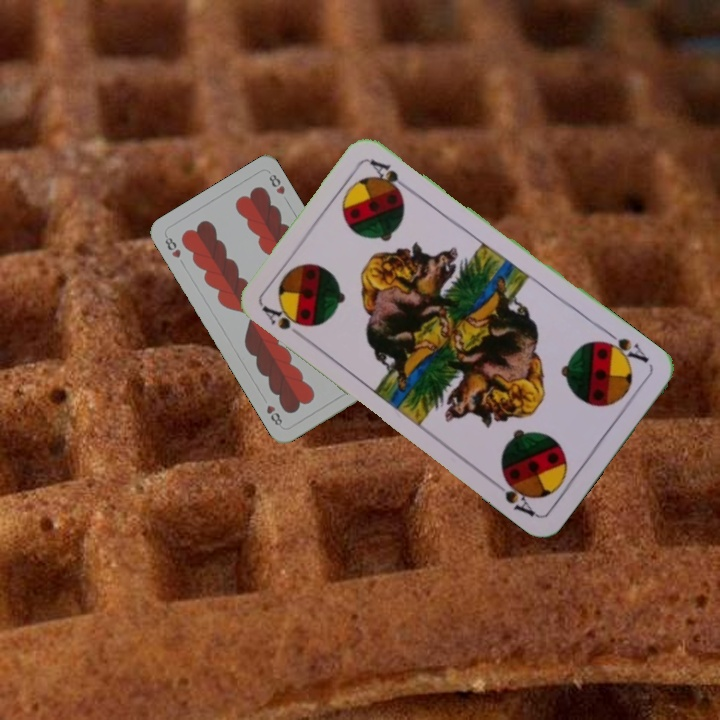H8: (161, 231, 183, 261)
SA: (596, 327, 652, 368), (257, 301, 311, 343)
